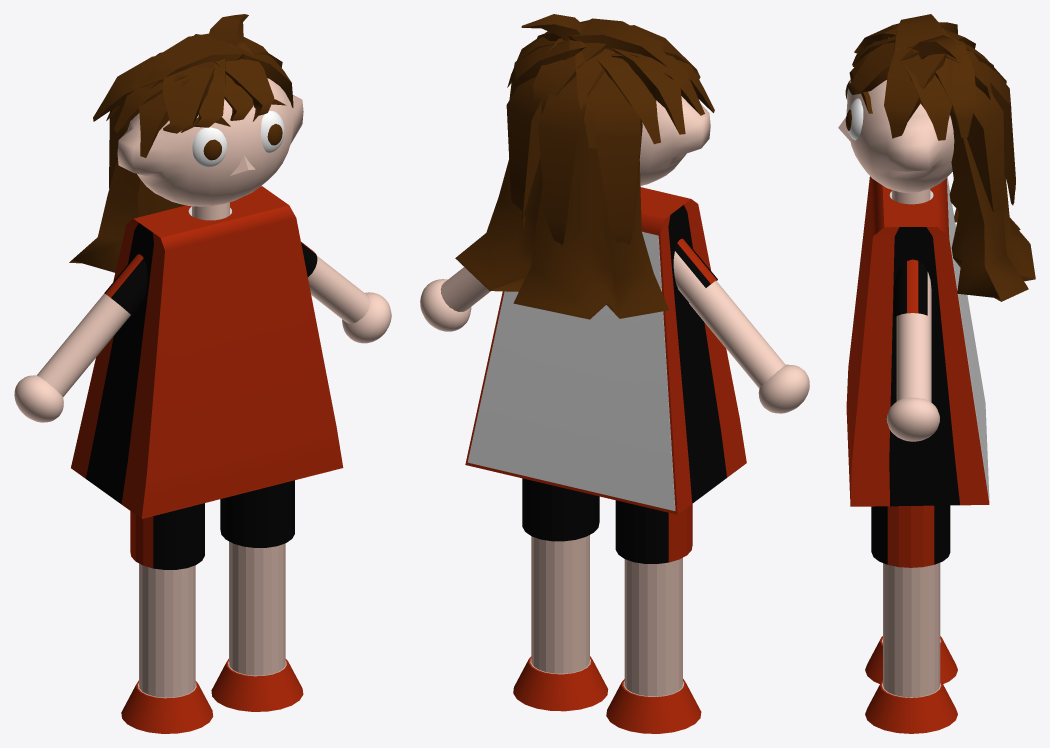
File: Cabello_largo.glb
3 renders of one model, left to right at view 1: azimuth 30°, elevation 25°; view 2: azimuth 150°, elevation 25°; view 3: azimuth 270°, elevation 25°, orthographic. The views are drawn at different scales.
Visible parts, largest first — view 1: group45_pasted__group39_pasted__pasted__pCylinder4, polySurface22, pasted__pSphere1, pCylinder2, pasted__pCylinder2, pasted__pasted__pCylinder2, pCylinder4, pasted__pasted__pCylinder4, pasted__pCylinder4.001, pasted__pCylinder4, pasted__pSphere3; view 2: polySurface22, pasted__pCube1, group45_pasted__group39_pasted__pasted__pCylinder4, pCylinder2, pasted__pCylinder2, pasted__pasted__pCylinder2, pCylinder4, pCube1, pasted__pCylinder4.001, pasted__pSphere1, pasted__pCylinder4; view 3: group45_pasted__group39_pasted__pasted__pCylinder4, polySurface22, pCylinder2, pasted__pSphere1, pasted__pasted__pCylinder2, pasted__pCylinder4, pasted__pCube1, pasted__pasted__pCylinder4, pasted__pCylinder2, pCube1, pasted__pasted__pSphere3.001, pCylinder1.
Boxes of the visible parts, left/top/right/bottom form: group45_pasted__group39_pasted__pasted__pCylinder4: left=71, top=186, right=343, bottom=518; polySurface22: left=69, top=14, right=293, bottom=272; pasted__pSphere1: left=117, top=78, right=303, bottom=206; pCylinder2: left=211, top=541, right=303, bottom=711; pasted__pCylinder2: left=121, top=563, right=213, bottom=733; pasted__pasted__pCylinder2: left=130, top=480, right=294, bottom=569; pCylinder4: left=14, top=295, right=130, bottom=422; pasted__pasted__pCylinder4: left=310, top=255, right=391, bottom=343; pasted__pCylinder4.001: left=19, top=293, right=129, bottom=422; pasted__pCylinder4: left=308, top=256, right=389, bottom=339; pasted__pSphere3: left=192, top=127, right=226, bottom=167; polySurface22: left=455, top=14, right=714, bottom=319; pasted__pCube1: left=467, top=239, right=675, bottom=510; group45_pasted__group39_pasted__pasted__pCylinder4: left=465, top=187, right=746, bottom=514; pCylinder2: left=513, top=535, right=608, bottom=711; pasted__pCylinder2: left=606, top=558, right=701, bottom=733; pasted__pasted__pCylinder2: left=522, top=478, right=692, bottom=563; pCylinder4: left=673, top=260, right=809, bottom=413; pCube1: left=503, top=231, right=675, bottom=509; pasted__pCylinder4.001: left=673, top=251, right=806, bottom=413; pasted__pSphere1: left=639, top=96, right=710, bottom=185; pasted__pCylinder4: left=420, top=267, right=489, bottom=331; group45_pasted__group39_pasted__pasted__pCylinder4: left=846, top=176, right=989, bottom=506; polySurface22: left=847, top=14, right=1035, bottom=301; pCylinder2: left=865, top=563, right=957, bottom=733; pasted__pSphere1: left=846, top=80, right=954, bottom=192; pasted__pasted__pCylinder2: left=871, top=505, right=950, bottom=567; pasted__pCylinder4: left=893, top=272, right=939, bottom=441; pasted__pCube1: left=889, top=190, right=989, bottom=500; pasted__pasted__pCylinder4: left=886, top=272, right=934, bottom=441; pasted__pCylinder2: left=865, top=636, right=957, bottom=683; pCube1: left=947, top=177, right=968, bottom=359; pasted__pasted__pSphere3.001: left=848, top=98, right=863, bottom=140; pCylinder1: left=892, top=189, right=930, bottom=204.
Bounding box in the file's own units: 0.1457 × 0.2507 × 0.0671.
